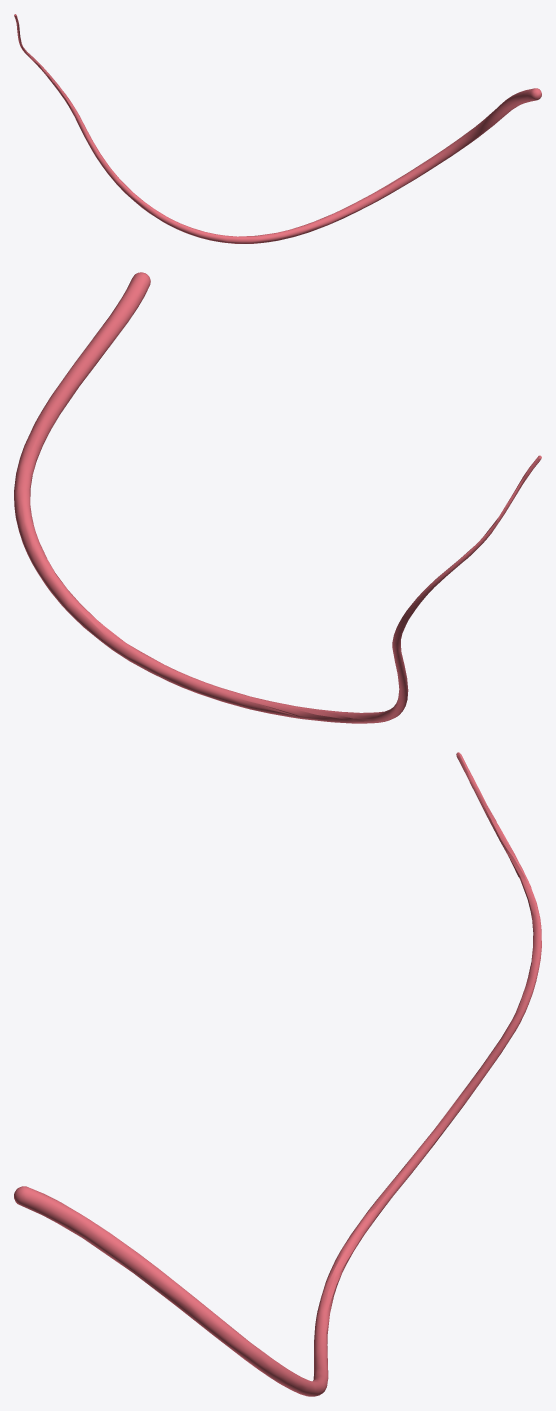
The model's file is fma71502_fj1719.glb.
3 views of the same model, one above another, from view 1: azimuth 30°, elevation 25°; view 2: azimuth 150°, elevation 25°; view 3: azimuth 270°, elevation 25° (orthographic). The views are drawn at different scales.
Visible parts, largest first — view 1: FMA71502_FJ1719; view 2: FMA71502_FJ1719; view 3: FMA71502_FJ1719.
Part boxes in pixels (x1=…): FMA71502_FJ1719: x1=14, y1=14, x2=541, y2=243; FMA71502_FJ1719: x1=14, y1=272, x2=541, y2=723; FMA71502_FJ1719: x1=14, y1=752, x2=541, y2=1396.
Bounding box in the file's own units: 0.0447 × 0.0261 × 0.0302.
